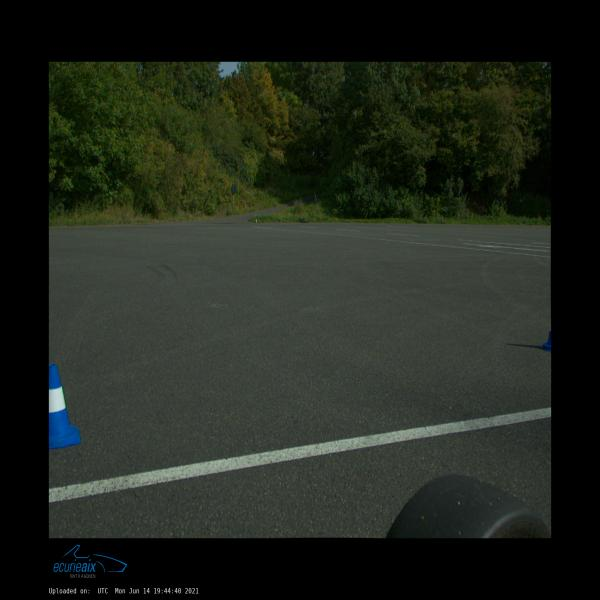blue_cone: (50, 364, 80, 449)
